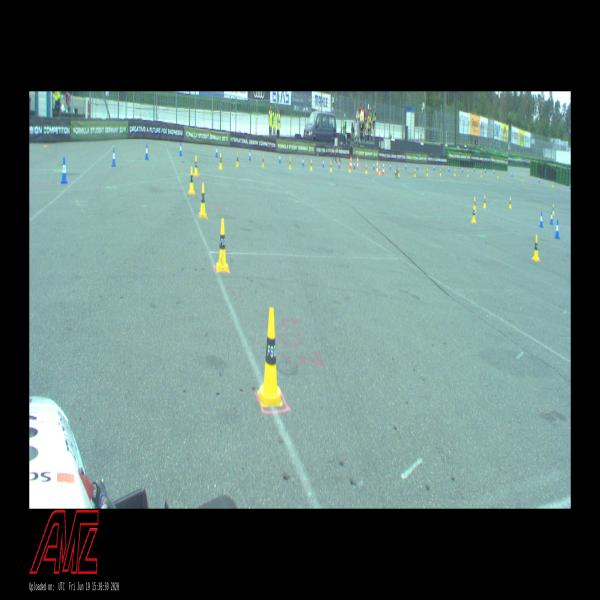blue_cone: (61, 157, 67, 183), (112, 148, 116, 166), (555, 220, 559, 238), (145, 143, 149, 160), (540, 212, 543, 227), (179, 142, 182, 156), (550, 212, 553, 224), (215, 146, 218, 157), (249, 148, 251, 160), (279, 153, 281, 163), (302, 157, 304, 166), (338, 160, 340, 168), (405, 163, 407, 170), (353, 161, 355, 168), (538, 176, 540, 182), (416, 164, 418, 169), (569, 183, 571, 188), (448, 167, 450, 172), (323, 158, 324, 167), (390, 162, 391, 170), (373, 162, 374, 169), (485, 167, 486, 173), (434, 164, 435, 170), (474, 167, 475, 172), (462, 167, 463, 171), (512, 172, 512, 176), (494, 169, 494, 173)
large_orange_cone: (356, 155, 358, 169), (350, 155, 352, 169), (382, 161, 384, 175), (376, 161, 378, 174)
yellow_cone: (257, 308, 283, 406), (216, 218, 228, 272), (199, 183, 207, 217), (533, 235, 540, 261), (188, 167, 194, 194), (194, 156, 198, 176), (472, 205, 476, 222), (219, 153, 222, 169), (473, 197, 476, 211), (483, 195, 486, 207), (262, 155, 264, 167), (236, 154, 238, 166), (289, 158, 291, 169), (552, 204, 554, 215), (510, 198, 512, 208), (330, 162, 332, 171), (365, 164, 367, 173), (349, 163, 351, 172), (426, 168, 428, 176), (454, 169, 456, 176), (414, 169, 416, 176), (552, 181, 554, 187), (467, 170, 469, 176), (480, 171, 482, 177), (311, 160, 312, 170), (398, 168, 399, 176), (379, 166, 380, 174), (497, 172, 498, 178), (440, 169, 441, 175), (522, 176, 522, 180)
